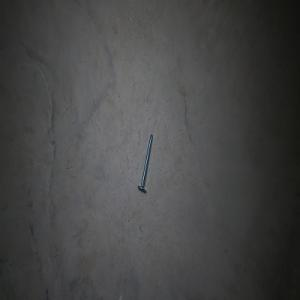Bolt: (137, 132, 153, 192)
